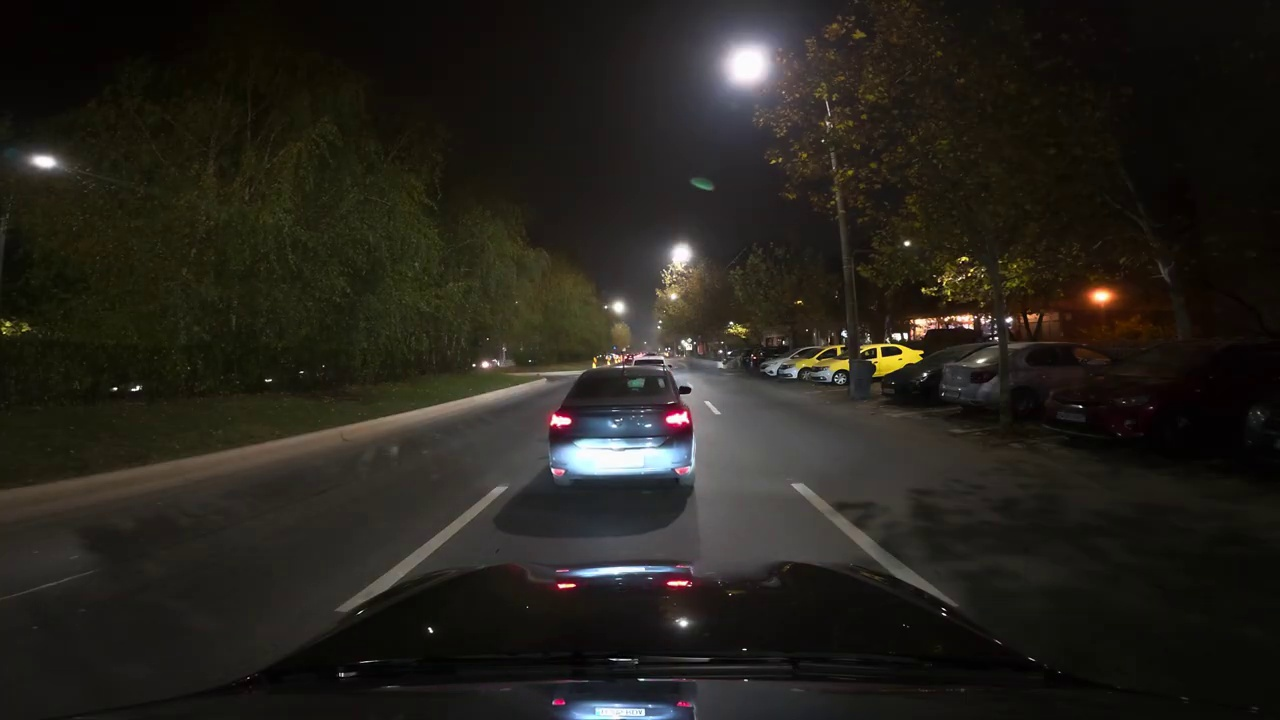acesa: (726, 45, 768, 84), (666, 241, 695, 270)
